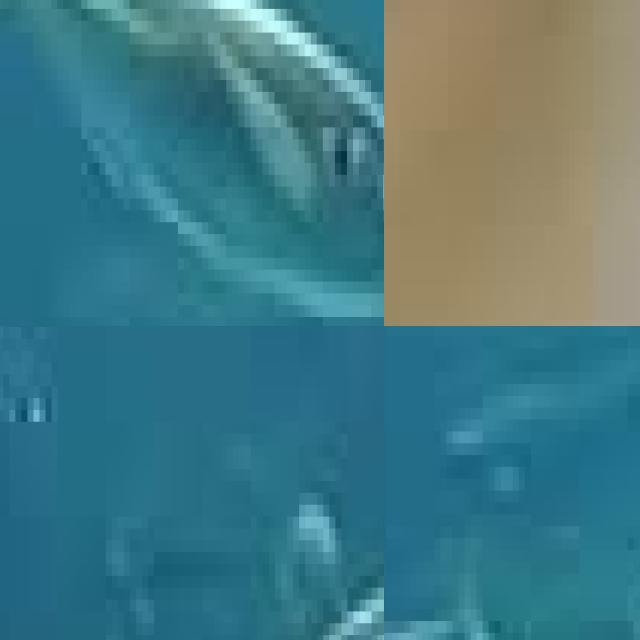fish: (0, 0, 384, 326), (0, 326, 269, 640), (384, 0, 640, 326)
